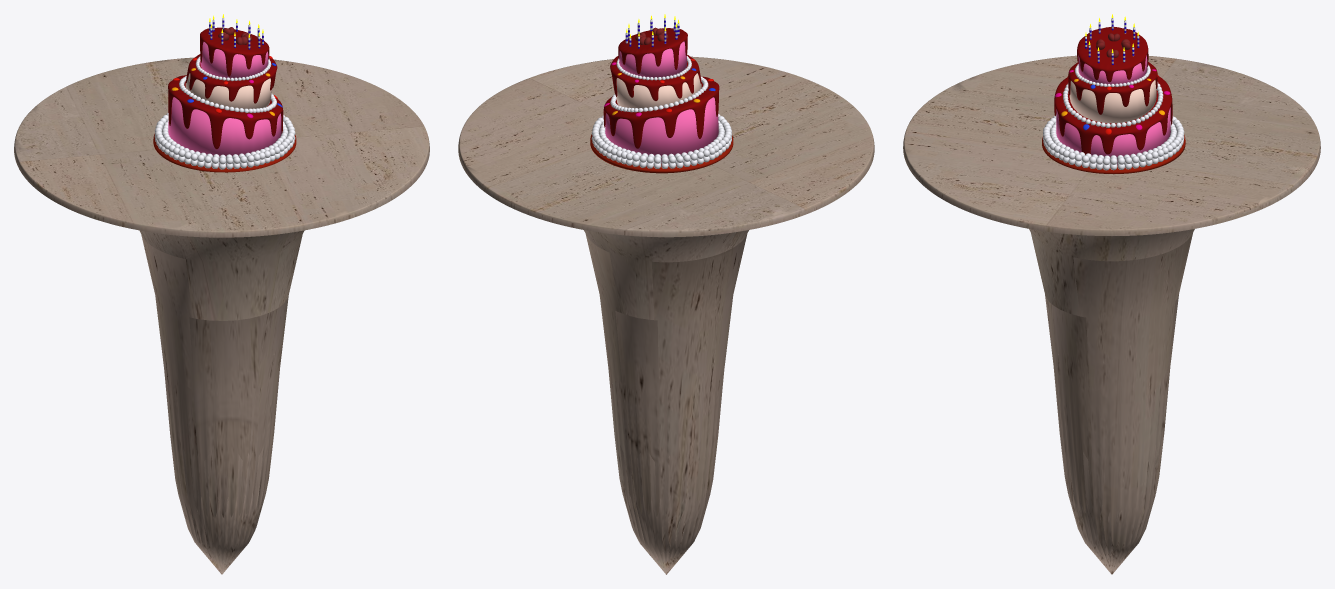
The model's file is cake2.glb.
3 views of the same model, side by side, from view 1: azimuth 30°, elevation 25°; view 2: azimuth 150°, elevation 25°; view 3: azimuth 270°, elevation 25° (orthographic).
Parts seen in each view (by area): view 1: Cylinder, first_first_0; view 2: Cylinder, first_first_0; view 3: Cylinder, first_first_0.
Boxes of the visible parts, x1,y1,x2,y2 form: Cylinder: (14,57,429,574); first_first_0: (153,14,296,172); Cylinder: (458,56,874,574); first_first_0: (590,14,733,173); Cylinder: (903,55,1320,574); first_first_0: (1042,14,1185,174).
Size of the model in its own units: 41.75 by 61.3 by 41.75.
3 materials, 3 textured.
